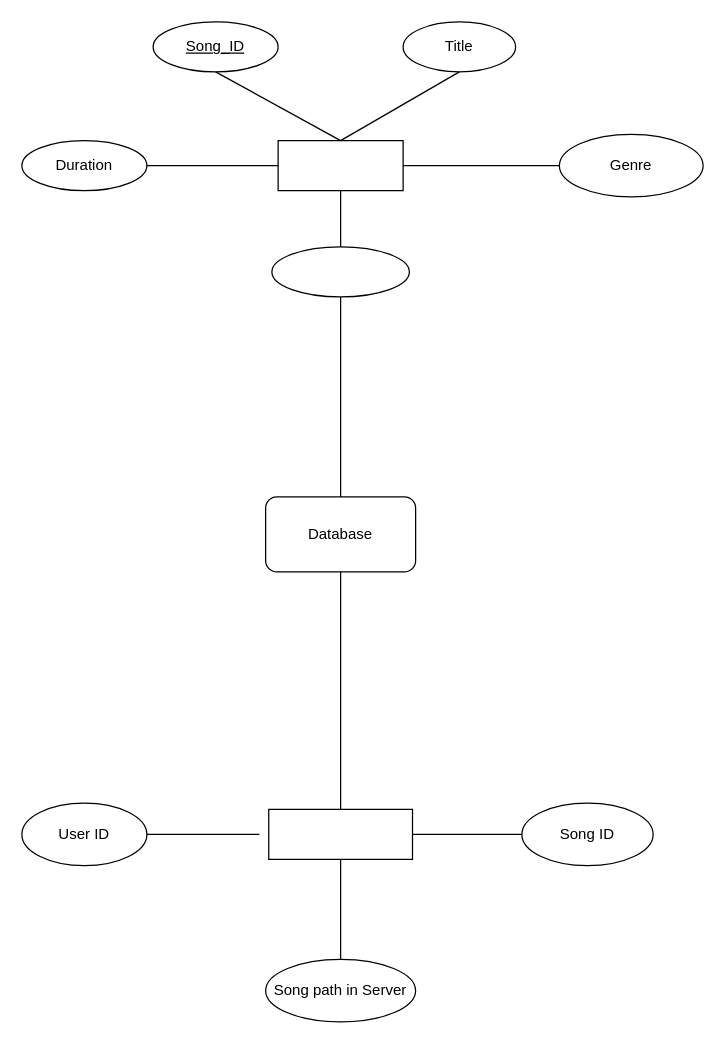
The diagram is 725 pixels wide and 1044 high, and some of its shapes have lost their labels. The shapes that lost their labels are listed below. From the top down, each one's centre as x and y in pixels, then its label:
At (340,165): "Song".
At (340,271): "Artist".
At (340,833): ".Mp3".
